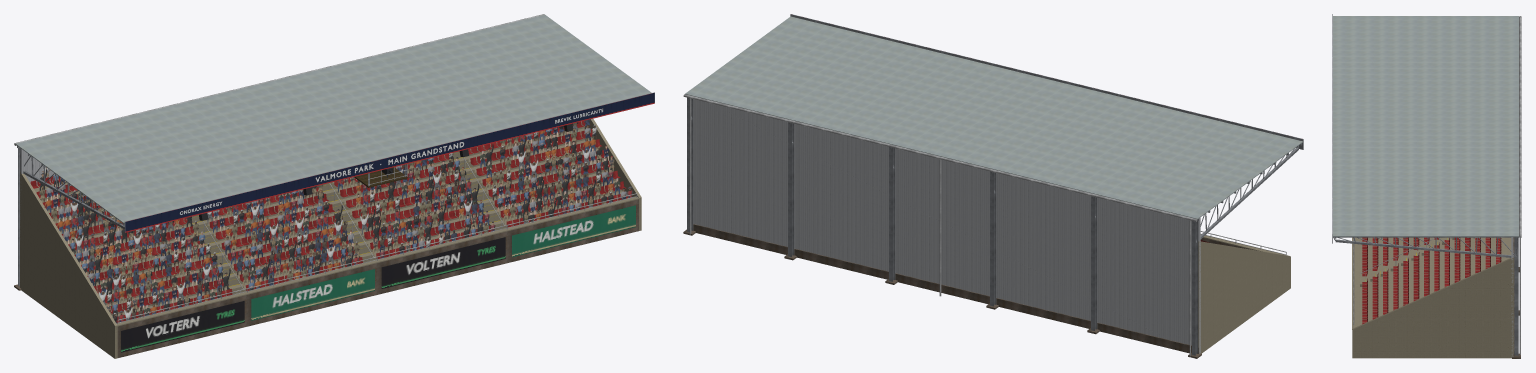
The model's file is main_stand.glb.
The picture shows the model from 3 angles, left to right: view 1: azimuth 30°, elevation 25°; view 2: azimuth 150°, elevation 25°; view 3: azimuth 270°, elevation 25°; orthographic projection. The views are drawn at different scales.
Visible parts, largest first — view 1: main_stand; view 2: main_stand; view 3: main_stand.
Boxes of the visible parts, x1,y1,x2,y2 form: main_stand: [14, 14, 654, 358]; main_stand: [683, 14, 1303, 358]; main_stand: [1332, 14, 1521, 358].
Size of the model in its own units: 40.7 by 10.7 by 14.76.
16 materials, 14 textured.
